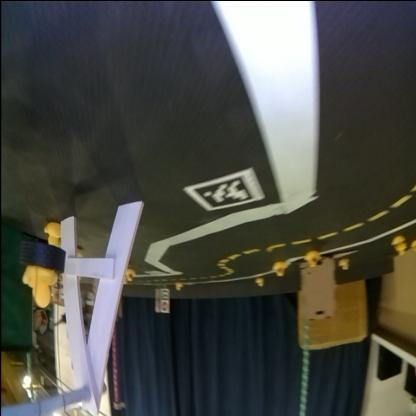Duckie: (22, 266, 57, 308), (43, 221, 62, 245), (305, 250, 320, 266), (274, 260, 284, 276), (340, 259, 350, 271), (398, 244, 406, 252), (130, 272, 135, 282), (256, 277, 262, 285), (176, 282, 182, 288)
QR code: (189, 169, 264, 209)
